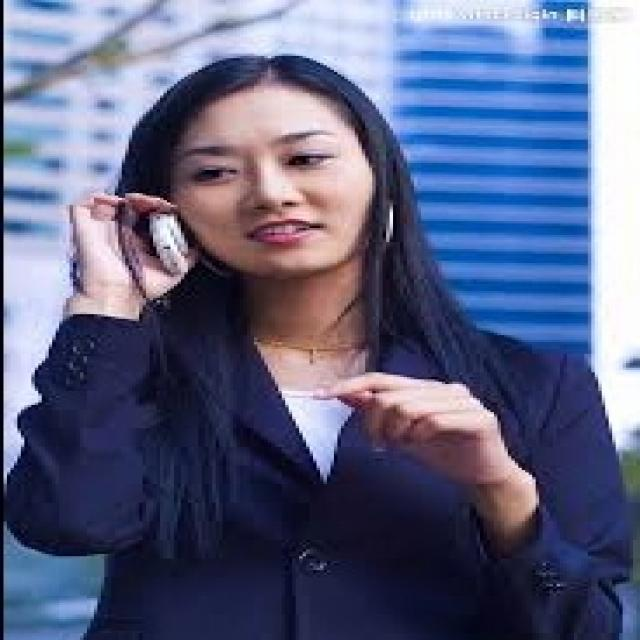phone: (46, 133, 250, 314)
